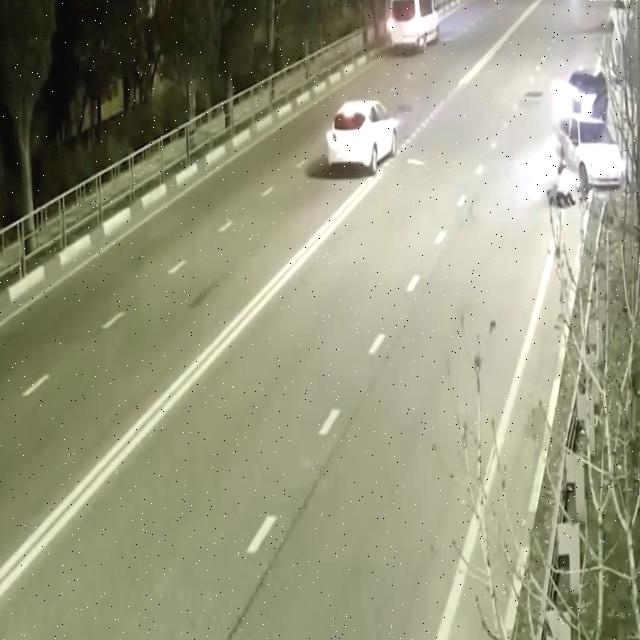accident: (542, 100, 628, 222)
